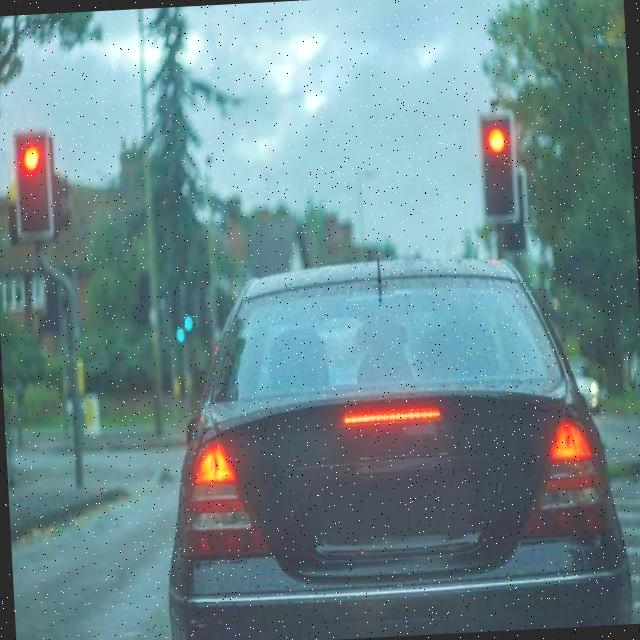Czerwone swiatlo: (15, 134, 50, 234), (482, 117, 516, 217)
